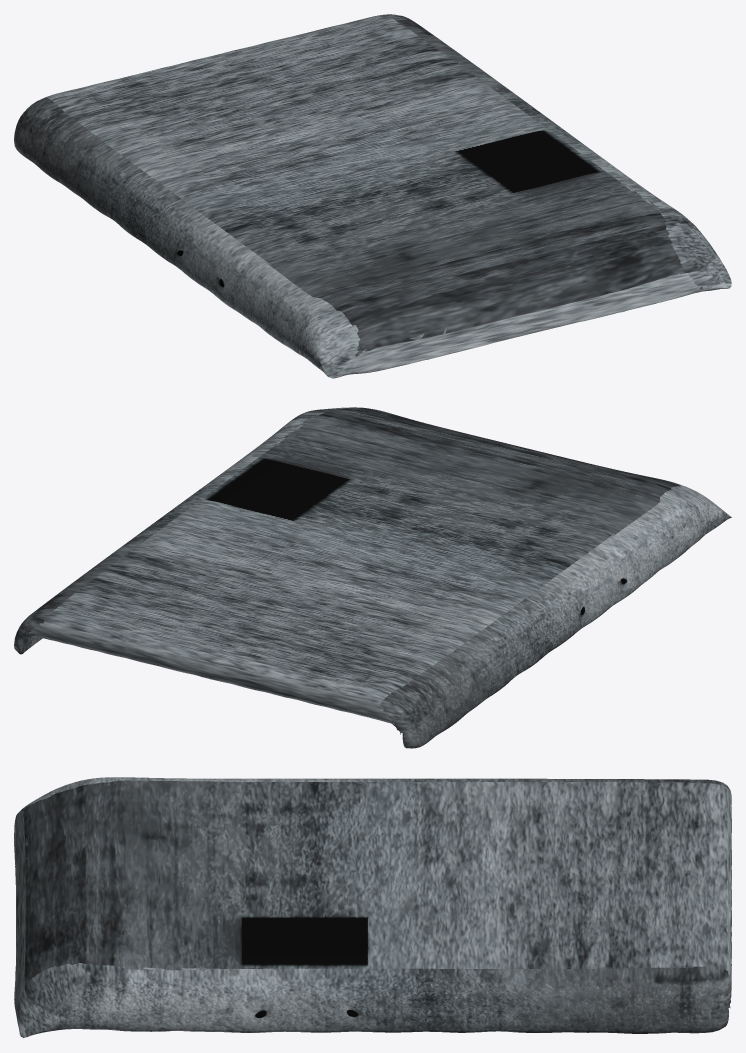
The model's file is bedroom_2.obj.
3 views of the same model, one above another, from view 1: azimuth 30°, elevation 25°; view 2: azimuth 150°, elevation 25°; view 3: azimuth 270°, elevation 25° (orthographic). The views are drawn at different scales.
Size of the model in its own units: 19.45 by 2.44 by 26.7.
